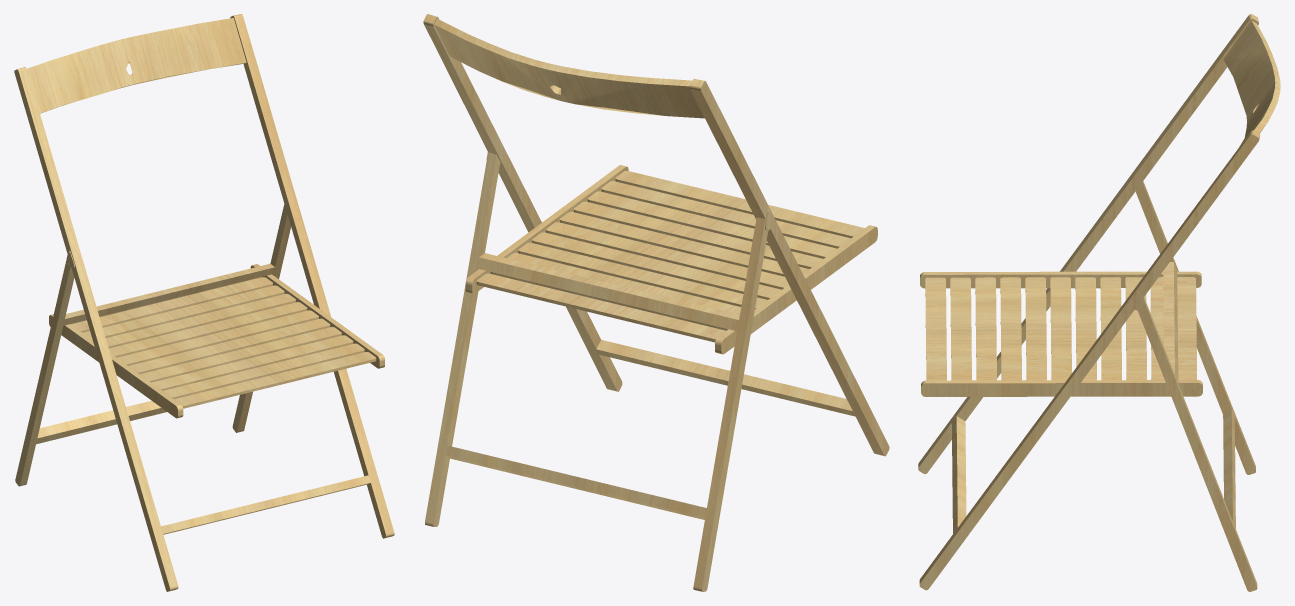
File: IKEA-Terje_Folding_Chair-3D.DAE
The picture shows the model from 3 angles, left to right: view 1: azimuth 30°, elevation 25°; view 2: azimuth 150°, elevation 25°; view 3: azimuth 270°, elevation 25°; orthographic projection. The views are drawn at different scales.
Visible parts, largest first — view 1: Rectangle11; view 2: Rectangle11; view 3: Rectangle11.
Part boxes in pixels (box(x1,y1,x2,y2)): Rectangle11: box(14, 14, 394, 591); Rectangle11: box(423, 14, 889, 591); Rectangle11: box(918, 14, 1280, 591).
Bounding box in the file's own units: 442 × 775 × 556.
